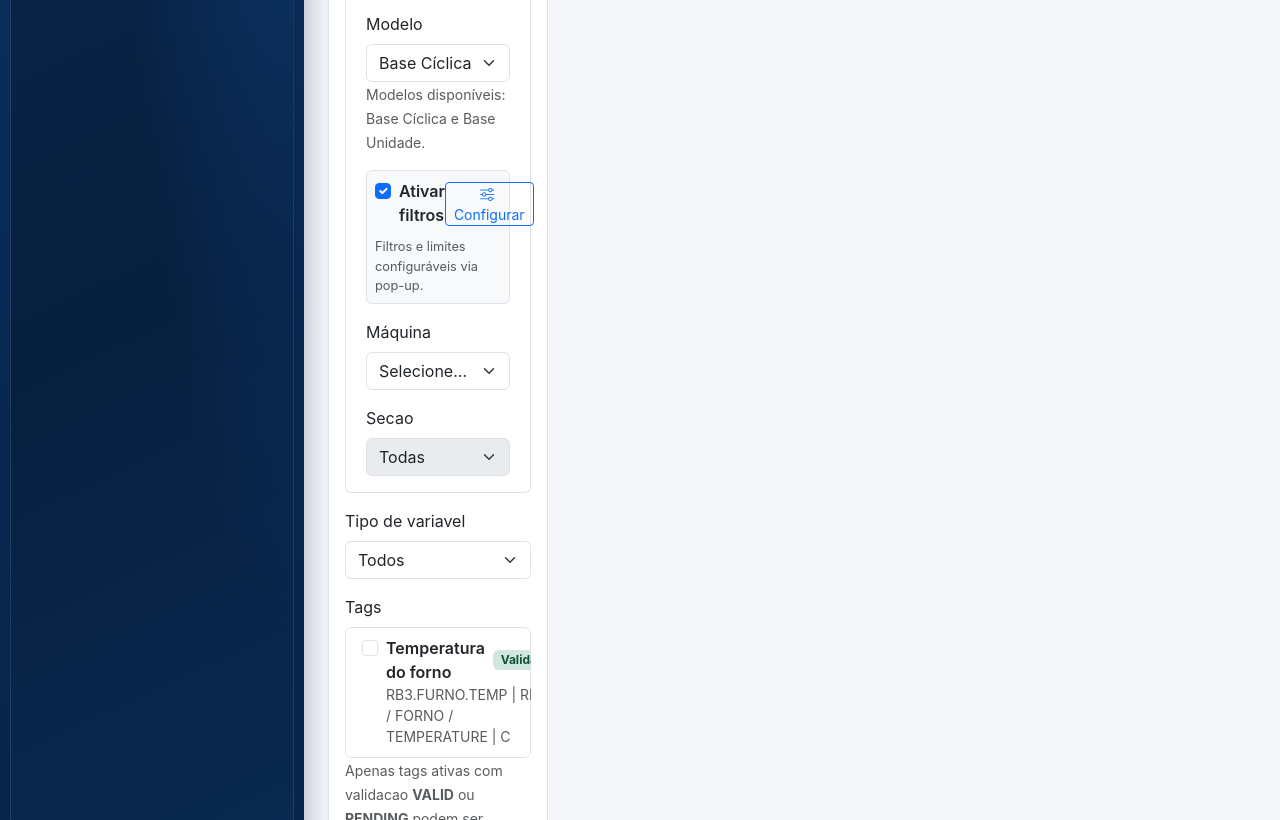
Test case: Visualização de Dados - Correções dos 8 Bugs › Validação do período absoluto, envio de instantes e exibição do período efetivo › se não houver ajuste do backend, o cartão mostra o período normalmente, sem badge ou nota
(page scrolled)
Step 1. Select "RB1 - RB1" in the dropdown with test id "equipment-select" → (438, 371), box [366, 352, 510, 390]
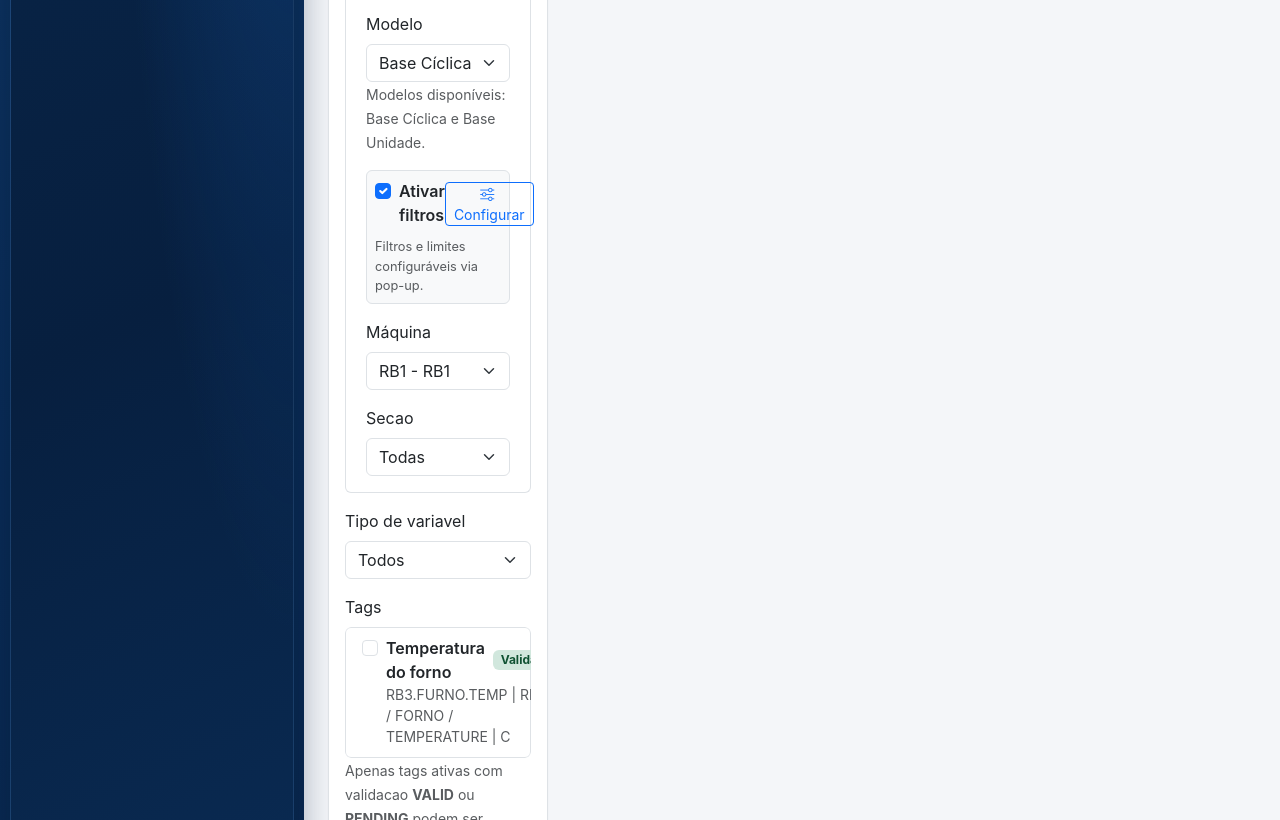
Step 2. Click the button with test id "tag-option-1" → (438, 692), box [345, 627, 531, 758]
(page scrolled)
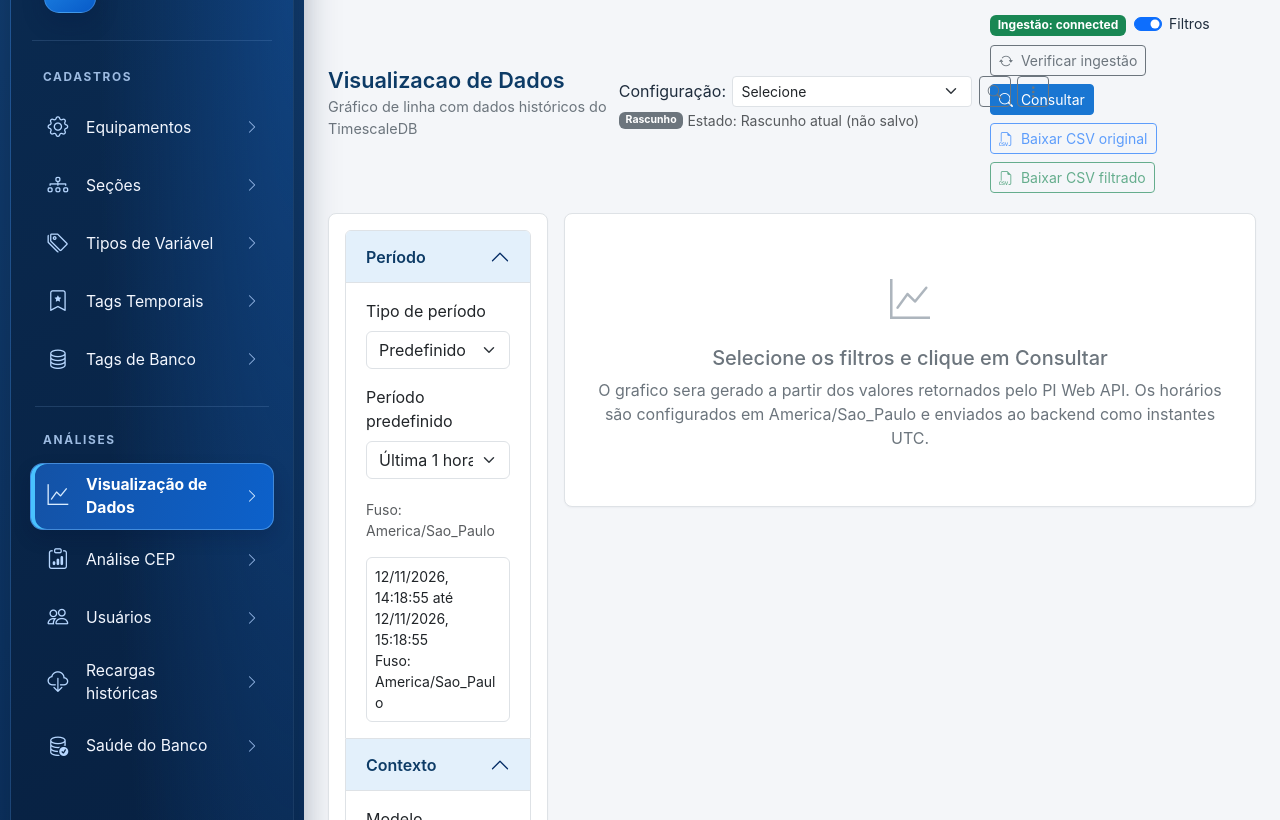
Step 3. Select "Absoluto" in the dropdown with test id "period-kind" → (438, 350), box [366, 331, 510, 369]
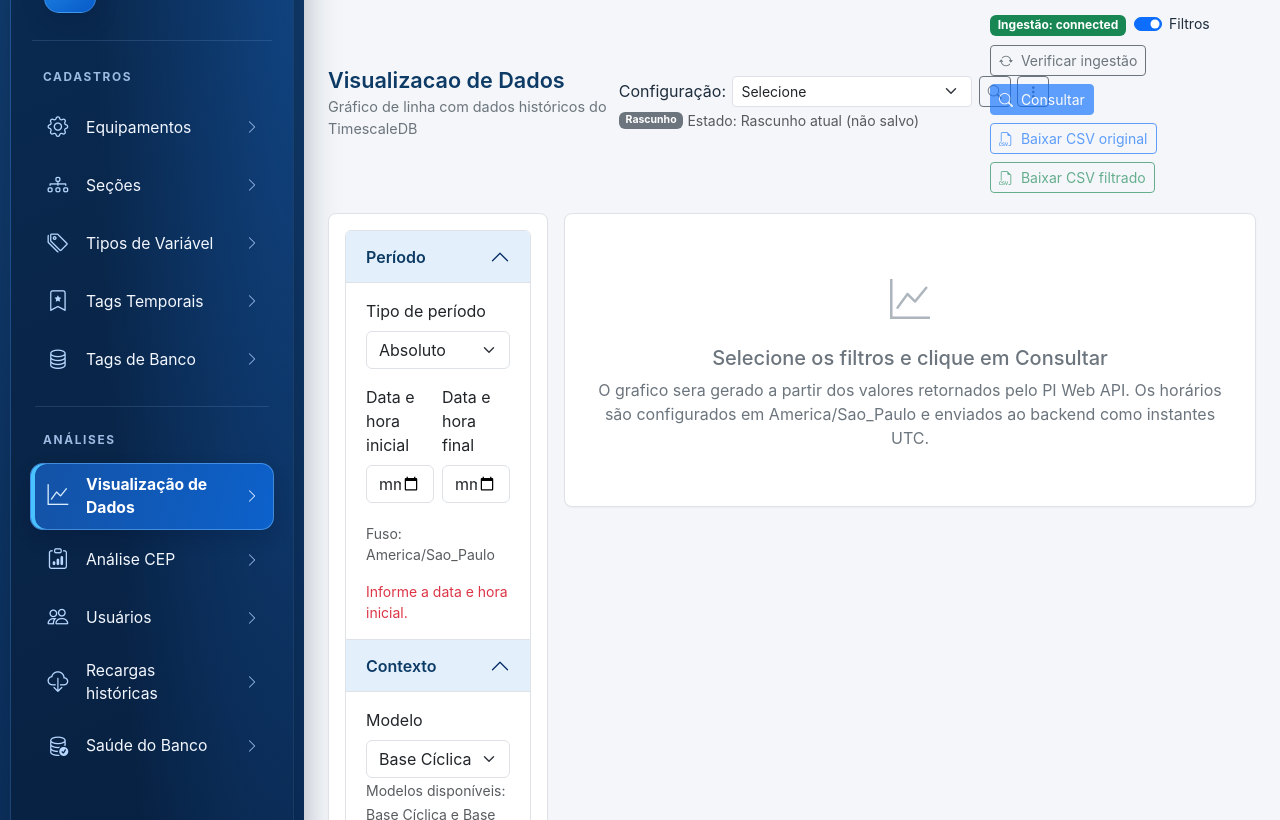
Step 4. Type "2026-11-11T10:04:54" into the field with test id "absolute-start" → (400, 484), box [366, 465, 434, 503]
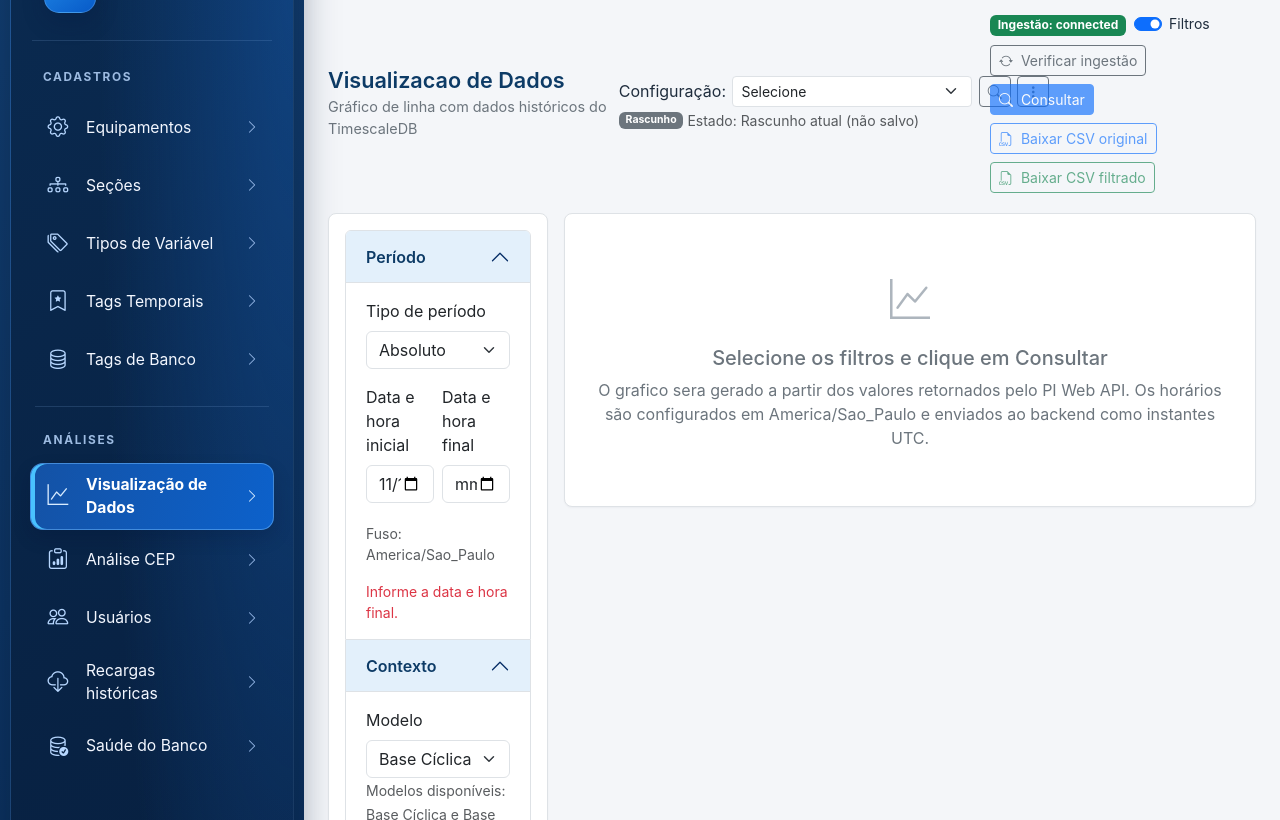
Step 5. Type "2026-11-11T10:19:54" into the field with test id "absolute-end" → (476, 484), box [442, 465, 510, 503]
(page scrolled)
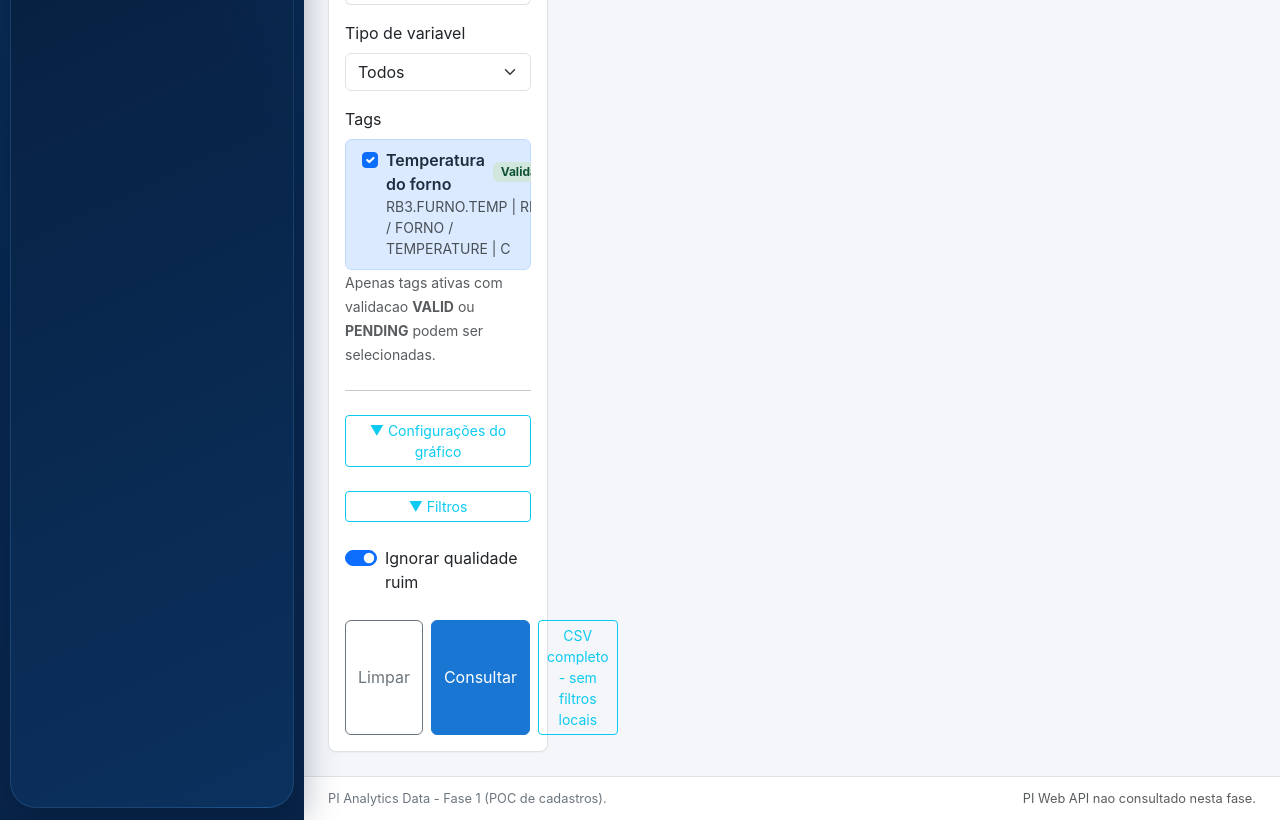
Step 6. Click the button with test id "filters-submit" → (480, 678), box [431, 620, 530, 735]
(page scrolled)
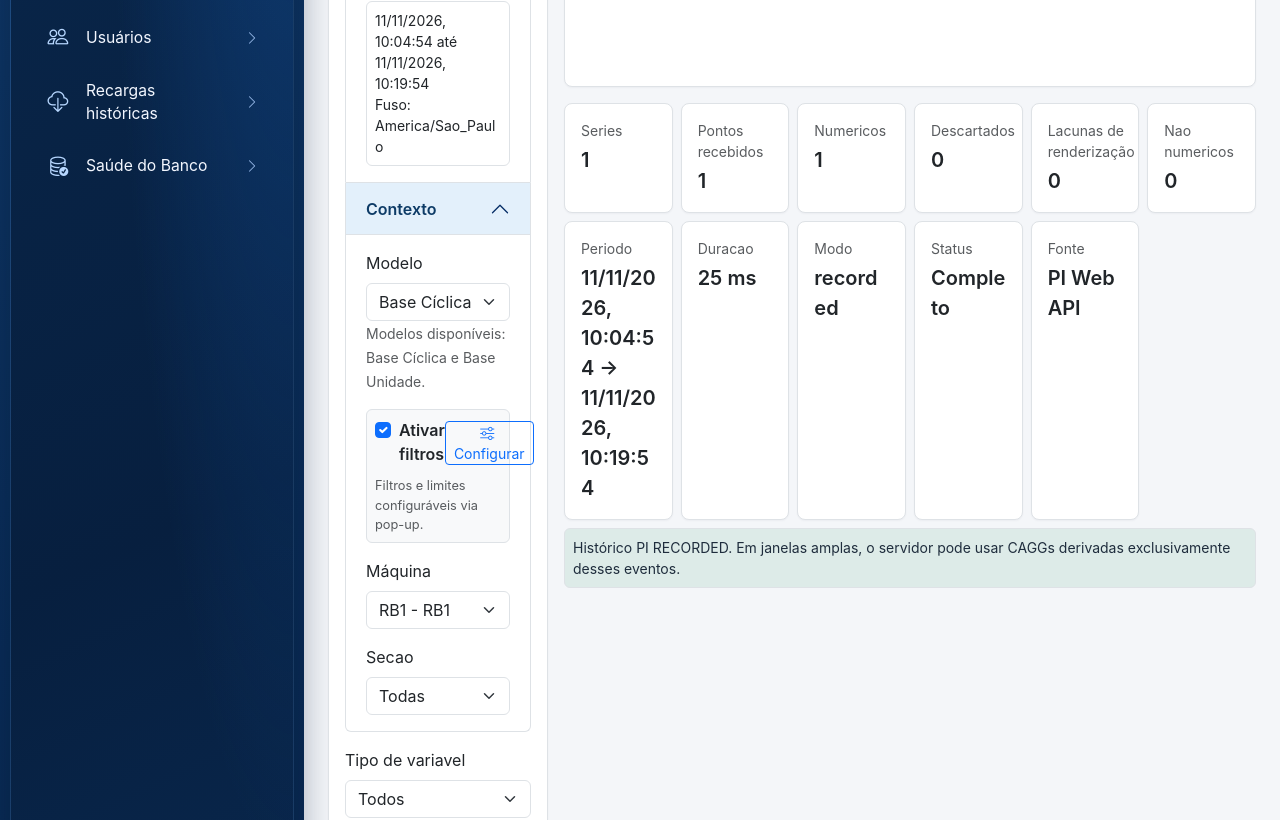
Result: the element with test id "metric-period" shows "11/11/2026, 10:04:54 -> 11/11/2026, 10:19:54" at [581, 266, 656, 500]
